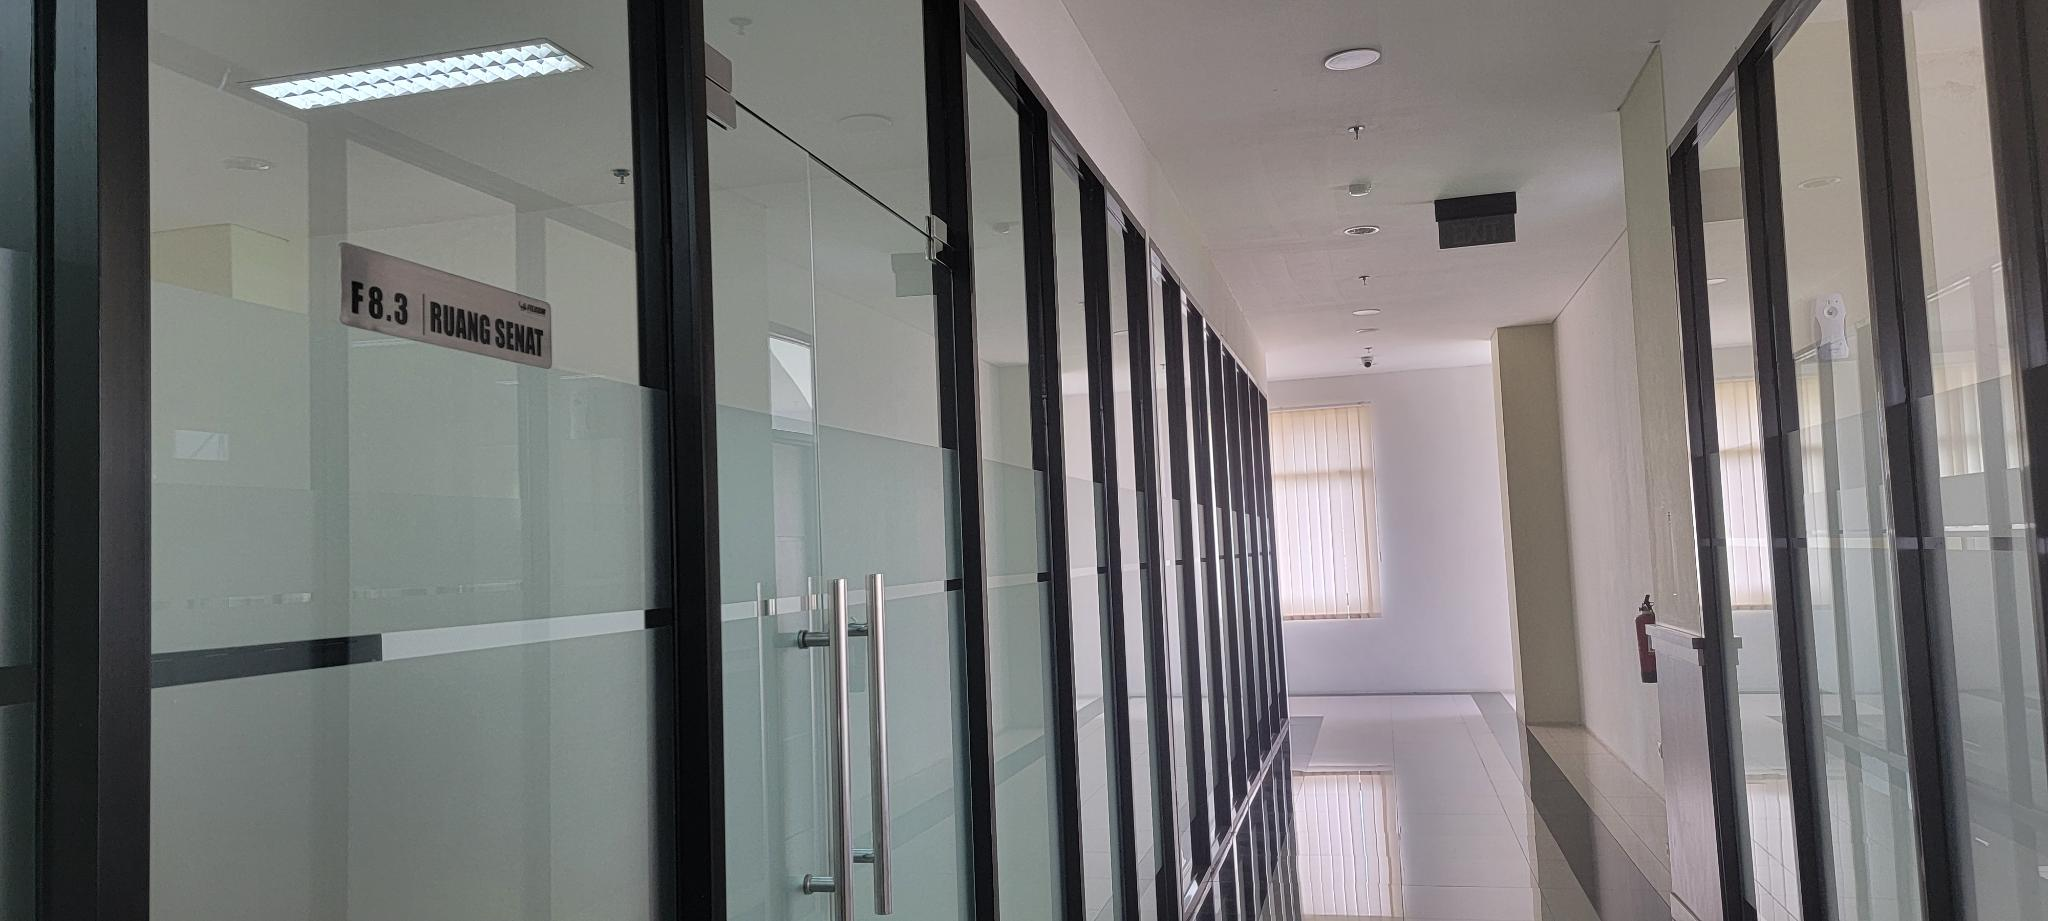plate: (340, 239, 556, 371)
